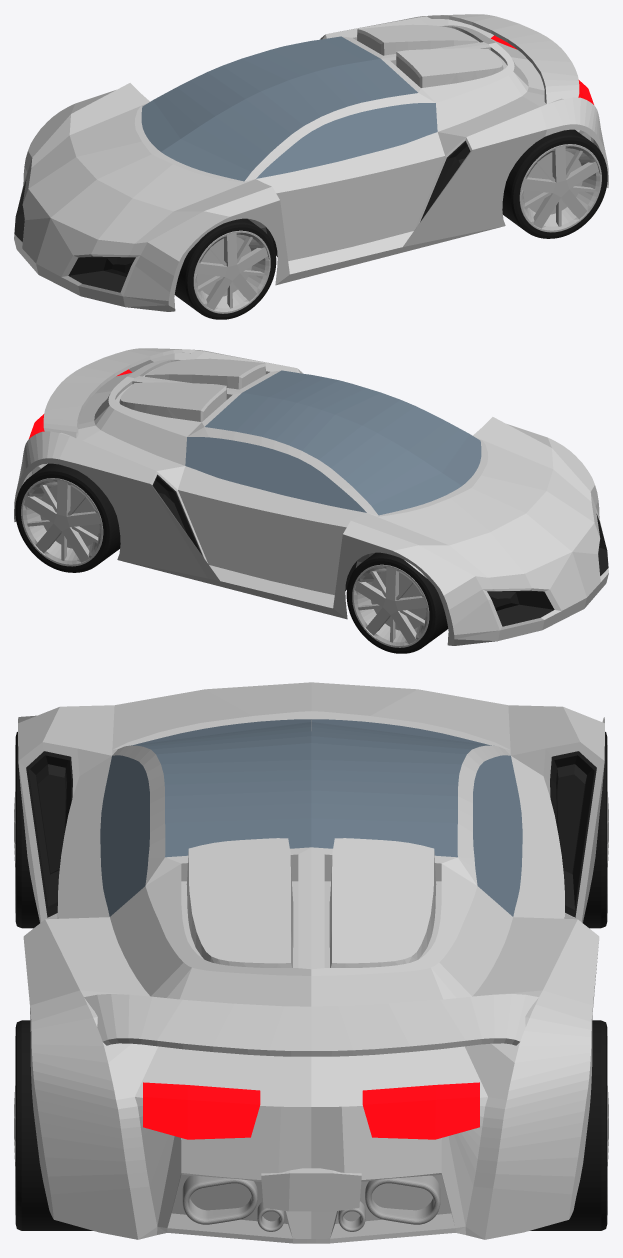
File: TAKHION.fbx
3 views of the same model, one above another, from view 1: azimuth 30°, elevation 25°; view 2: azimuth 150°, elevation 25°; view 3: azimuth 270°, elevation 25° (orthographic). The views are drawn at different scales.
Parts seen in each view (by area): view 1: Body, Circle.002, Circle.003; view 2: Body, Circle.001, Circle.000; view 3: Body, BrakeOn, Circle.001, Circle.002, Circle.000, Circle.003.
Boxes of the visible parts, x1,y1,x2,y2 form: Body: (14,14,608,311); Circle.002: (502,129,607,238); Circle.003: (174,218,276,319); Body: (14,348,608,645); Circle.001: (15,463,120,572); Circle.000: (346,552,448,653); Body: (18,682,604,1243); BrakeOn: (143,1082,479,1139); Circle.001: (530,1020,608,1230); Circle.002: (14,1020,92,1230); Circle.000: (583,732,608,928); Circle.003: (14,732,39,928).
Bounding box in the file's own units: 545 × 154 × 278.
